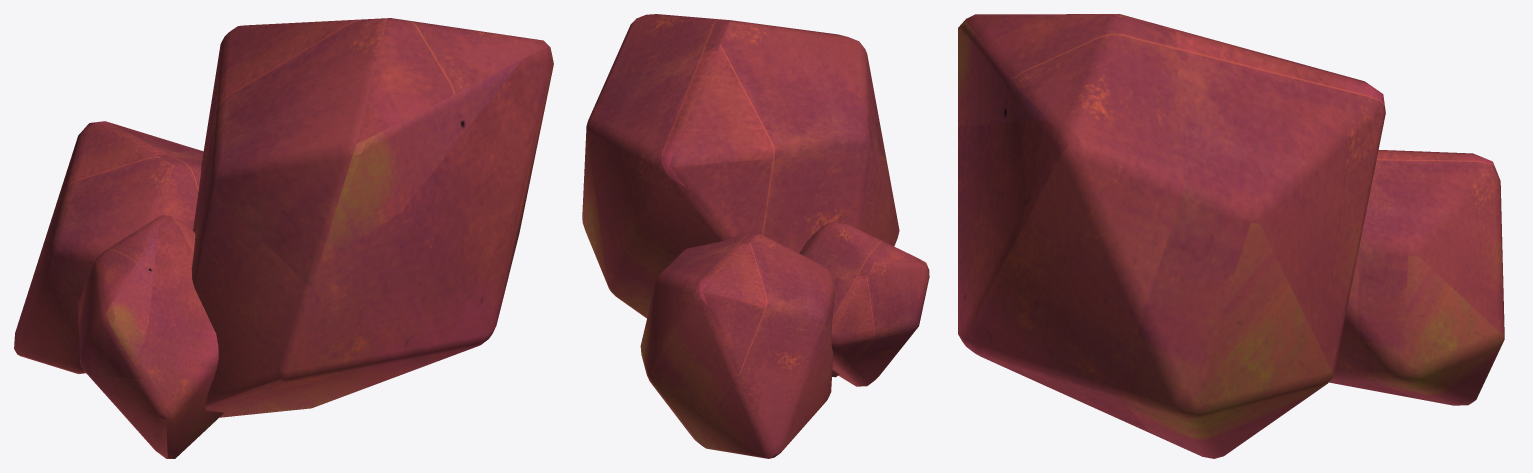
File: TEMPLE_DECOR_ROCKS_004.obj
The picture shows the model from 3 angles, left to right: view 1: azimuth 30°, elevation 25°; view 2: azimuth 150°, elevation 25°; view 3: azimuth 270°, elevation 25°; orthographic projection. The views are drawn at different scales.
Visible parts, largest first — view 1: TEMPLE_DECOR_ROCKS_004; view 2: TEMPLE_DECOR_ROCKS_004; view 3: TEMPLE_DECOR_ROCKS_004.
Part boxes in pixels (<box>): TEMPLE_DECOR_ROCKS_004: <box>14,18,553,458</box>; TEMPLE_DECOR_ROCKS_004: <box>582,14,929,458</box>; TEMPLE_DECOR_ROCKS_004: <box>958,14,1504,458</box>.
Size of the model in its own units: 0.7014 by 0.6336 by 0.7001.
